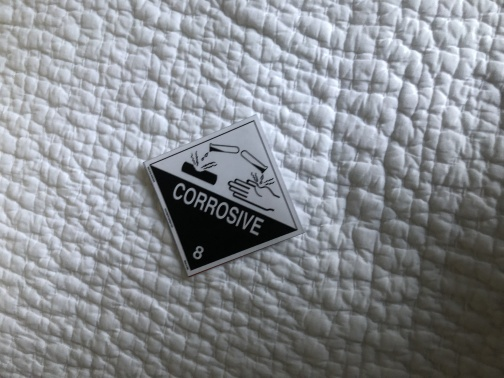Corrosive: (143, 115, 306, 279)
